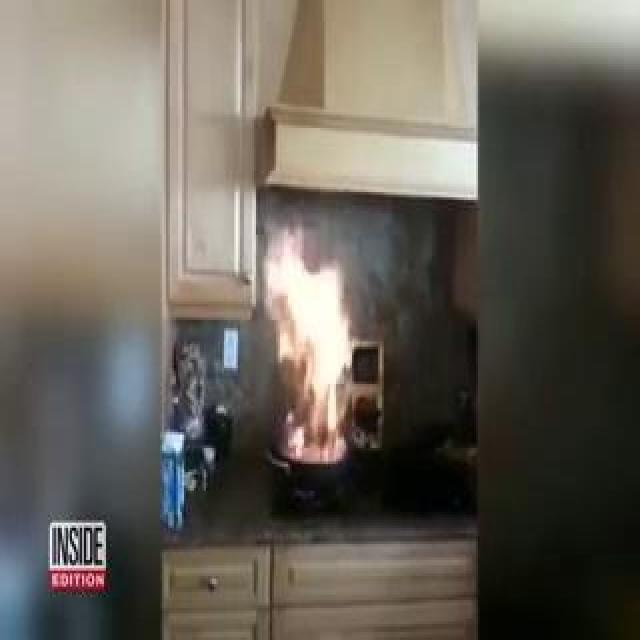Fire: (274, 244, 364, 471)
